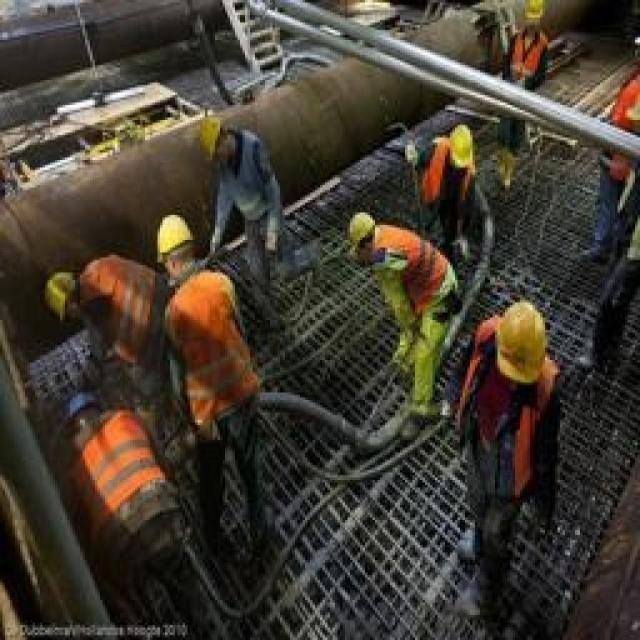Helmet: (479, 293, 567, 411), (134, 205, 208, 279), (36, 254, 88, 338), (432, 108, 484, 190), (184, 105, 240, 180), (334, 203, 383, 272), (43, 390, 109, 440), (500, 0, 571, 38)
Safety Vest: (446, 334, 566, 498), (158, 276, 272, 438), (64, 415, 174, 577), (77, 253, 171, 359), (371, 220, 465, 326), (222, 132, 282, 258), (602, 47, 640, 215), (604, 159, 640, 310), (417, 140, 471, 230), (508, 27, 548, 125)
